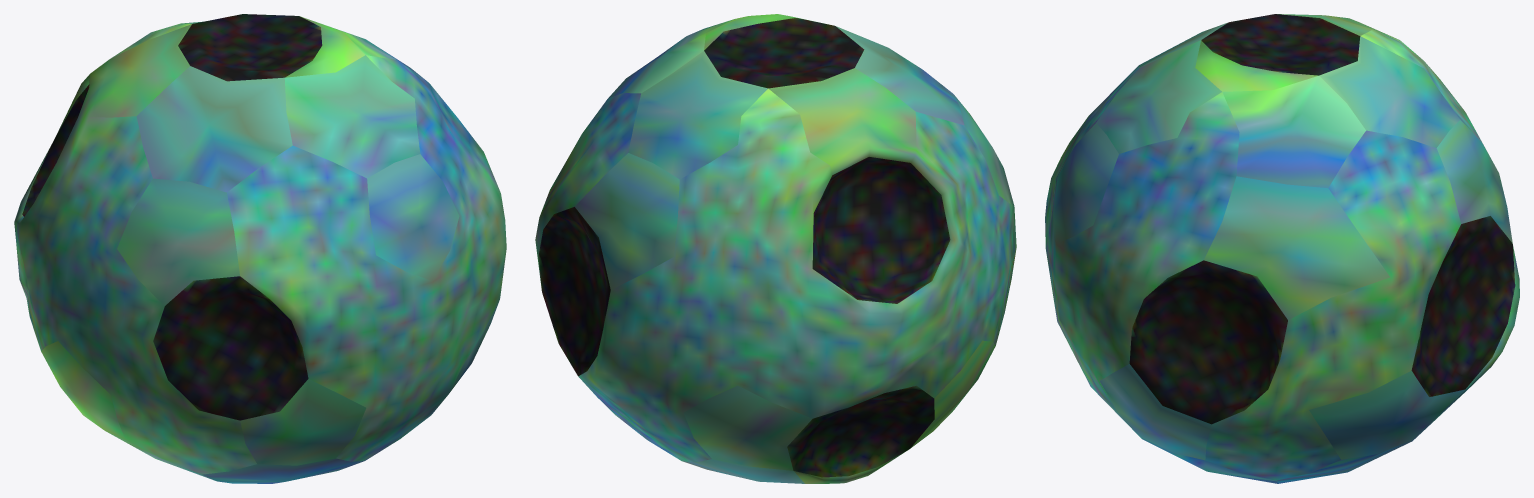
Rendered from Firefly.fbx.
3 renders of one model, left to right at view 1: azimuth 30°, elevation 25°; view 2: azimuth 150°, elevation 25°; view 3: azimuth 270°, elevation 25°, orthographic.
Parts seen in each view (by area): view 1: Icosphere; view 2: Icosphere; view 3: Icosphere.
Boxes of the visible parts, left/top/right/bottom form: Icosphere: left=14, top=14, right=506, bottom=483; Icosphere: left=535, top=14, right=1016, bottom=483; Icosphere: left=1045, top=14, right=1519, bottom=483.
Size of the model in its own units: 0.2719 by 0.2643 by 0.269.
